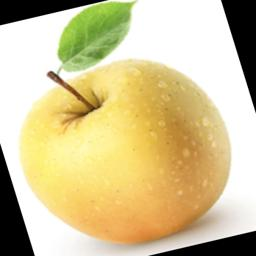Apple Fresh: (10, 1, 255, 256)
